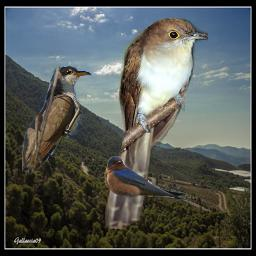Cuckoo: (105, 16, 208, 229), (22, 66, 109, 175)
Swallow: (104, 156, 194, 202)
